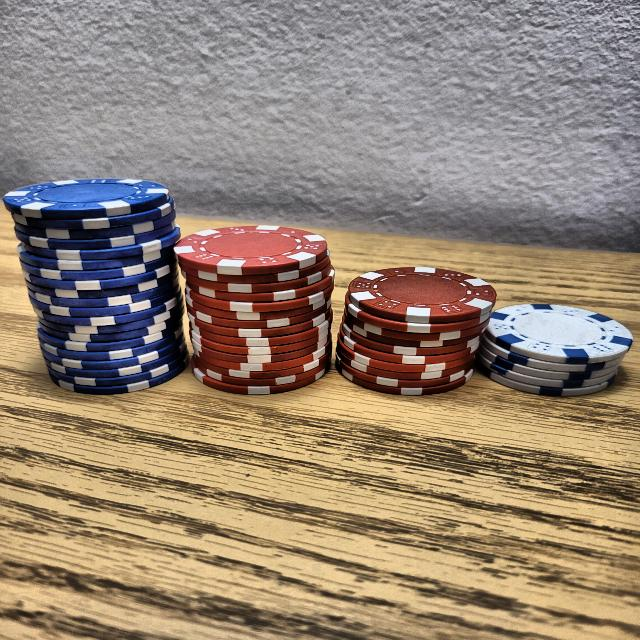Chip: (14, 158, 196, 413), (176, 199, 340, 413), (331, 244, 496, 408), (478, 270, 632, 398)
